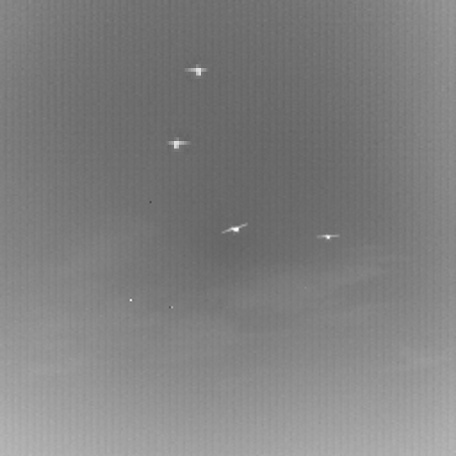plane: (181, 53, 211, 83), (164, 125, 194, 155), (214, 217, 244, 233), (312, 228, 337, 241)
